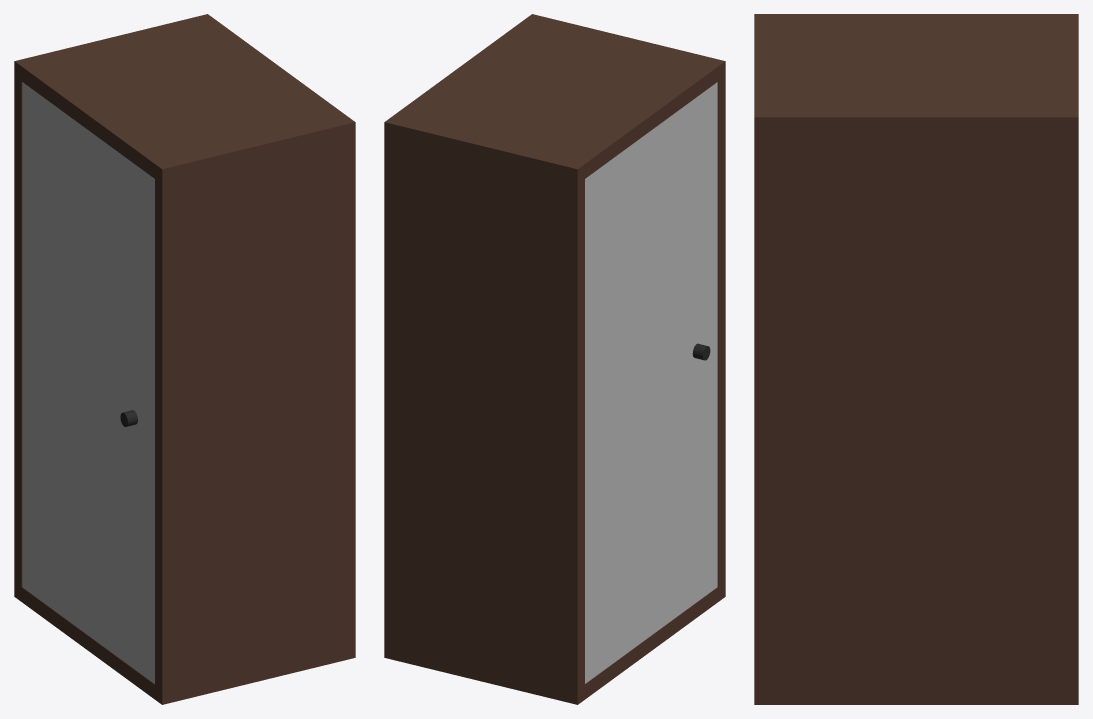
The model's file is Cabinet102_separated.fbx.
The picture shows the model from 3 angles, left to right: view 1: azimuth 30°, elevation 25°; view 2: azimuth 150°, elevation 25°; view 3: azimuth 270°, elevation 25°; orthographic projection. The views are drawn at different scales.
Visible parts, largest first — view 1: Body102, Door102; view 2: Body102, Door102; view 3: Body102.
Part boxes in pixels (x1,y1,x2,y2): Body102: (14, 14, 355, 704); Door102: (22, 82, 154, 683); Body102: (384, 14, 725, 704); Door102: (585, 82, 717, 683); Body102: (754, 14, 1078, 704).
Size of the model in its own units: 79.28 by 200 by 100.
